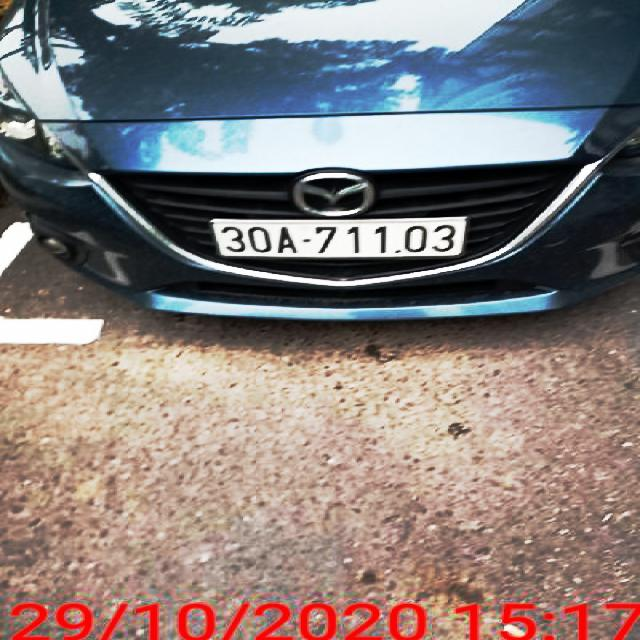license_plate: (214, 216, 467, 259)
